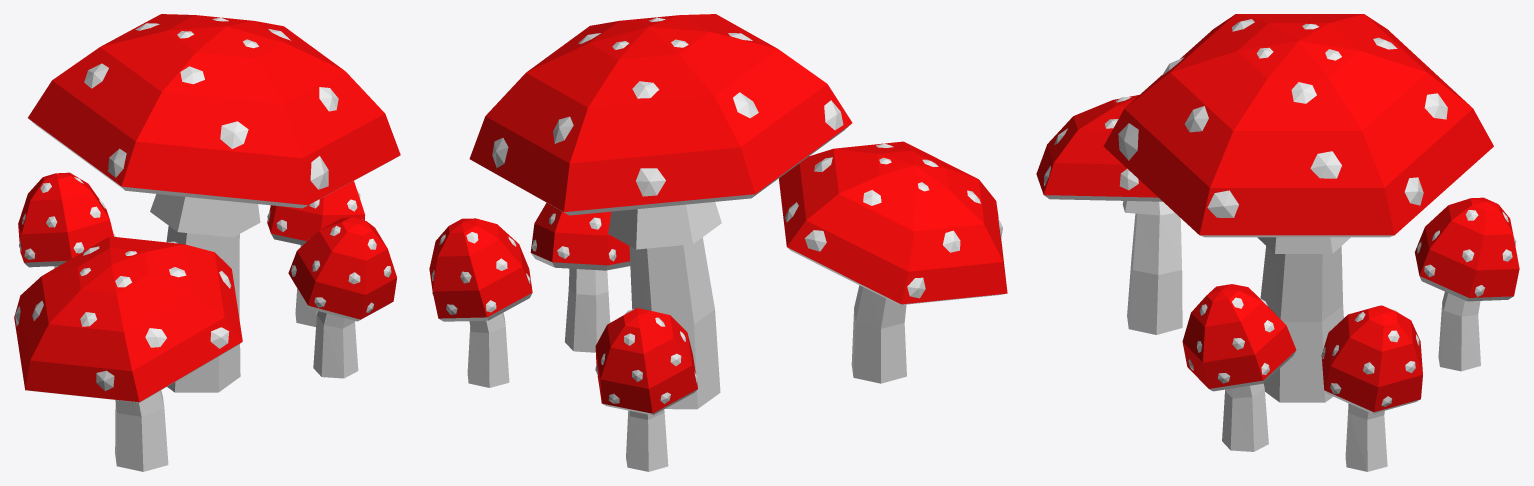
The model's file is shroom_amanita.glb.
3 renders of one model, left to right at view 1: azimuth 30°, elevation 25°; view 2: azimuth 150°, elevation 25°; view 3: azimuth 270°, elevation 25°, orthographic. The views are drawn at different scales.
Visible parts, largest first — view 1: shroom_amanita; view 2: shroom_amanita; view 3: shroom_amanita.
Part boxes in pixels (x1=…): shroom_amanita: x1=14, y1=14, x2=400, y2=471; shroom_amanita: x1=429, y1=14, x2=1007, y2=471; shroom_amanita: x1=1036, y1=14, x2=1519, y2=471.
Bounding box in the file's own units: 0.45 × 0.3316 × 0.4044.
